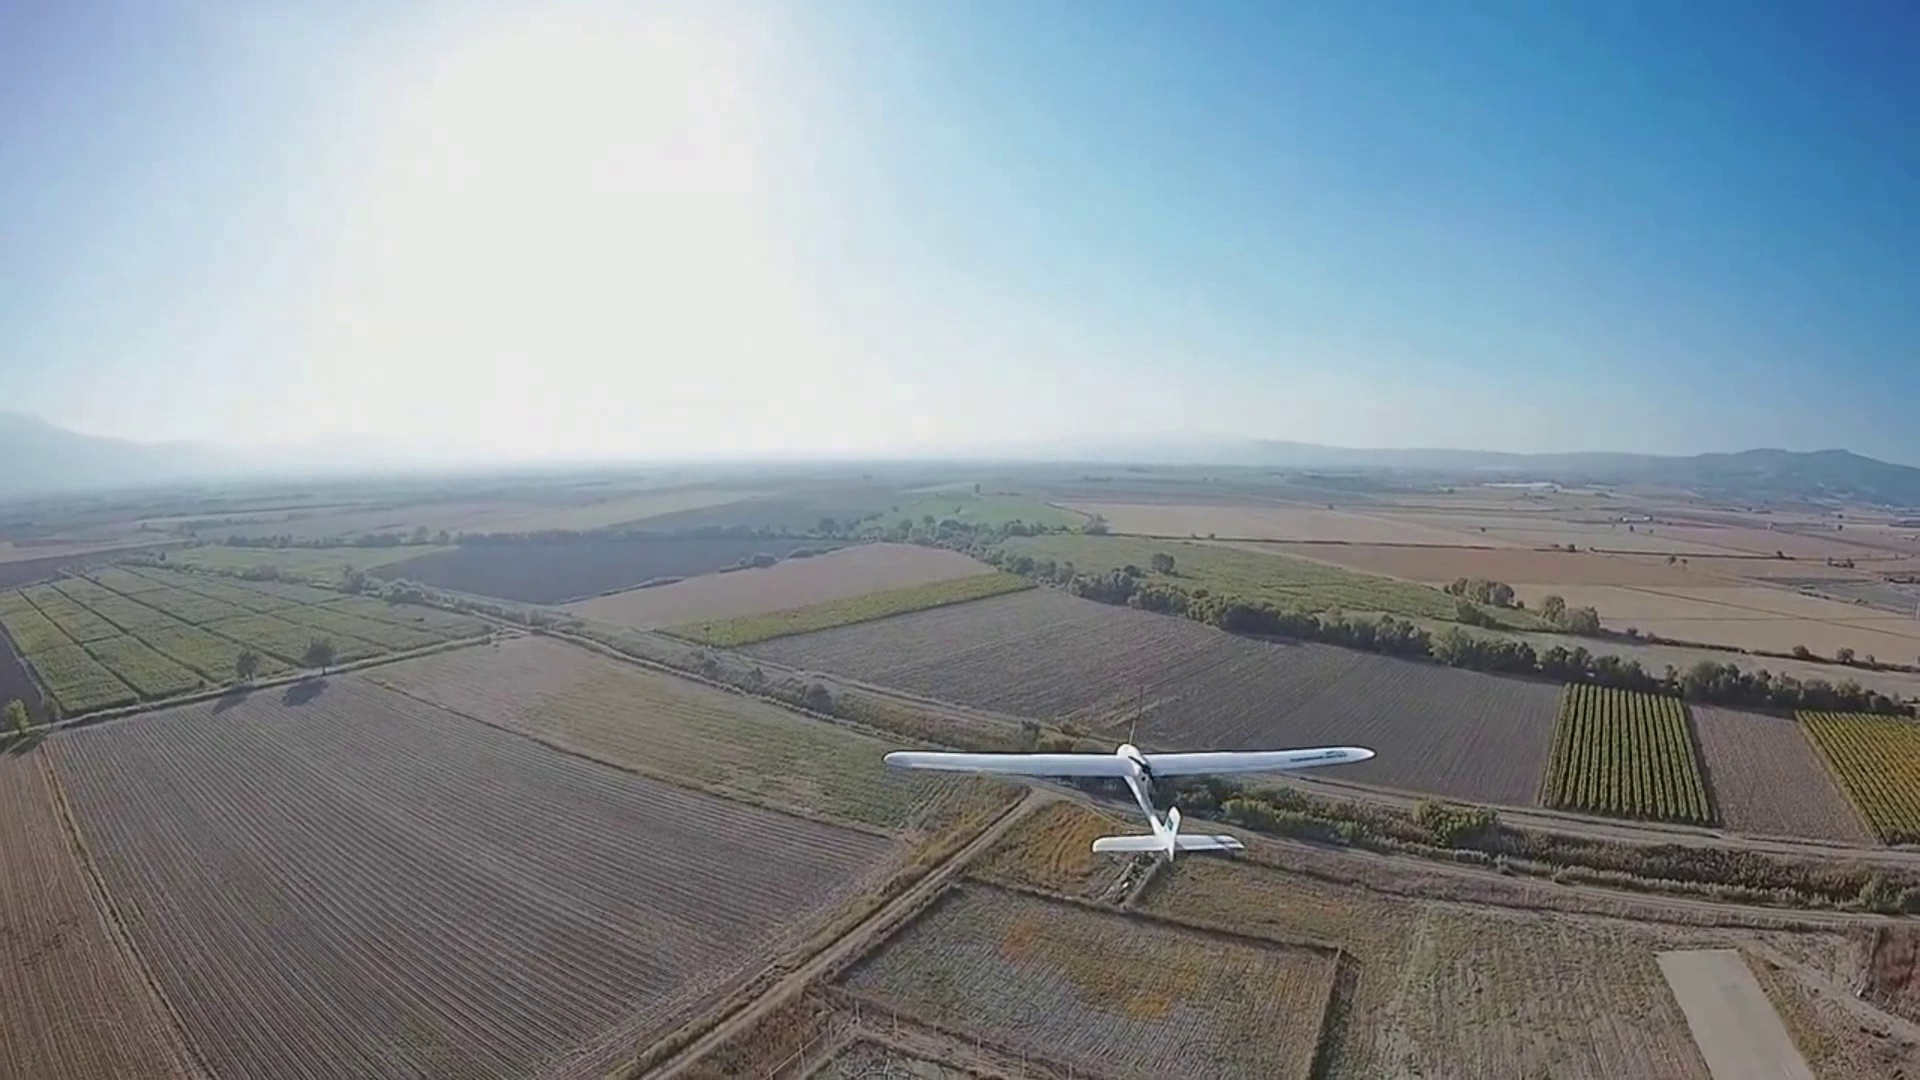airplane: (883, 733, 1375, 859)
